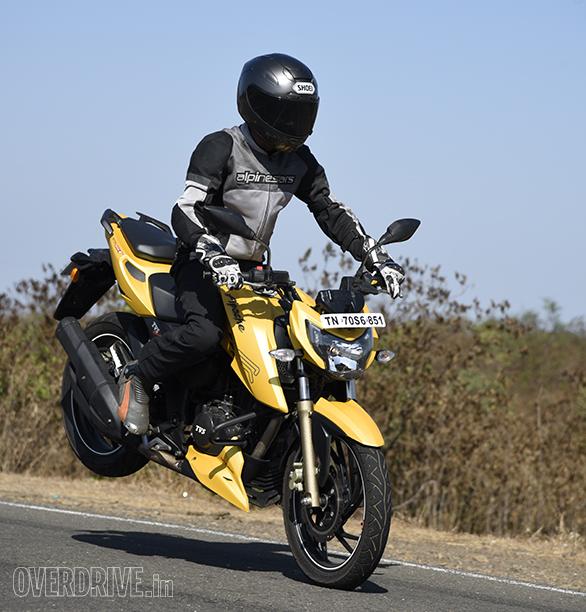helmet: (233, 47, 321, 146)
